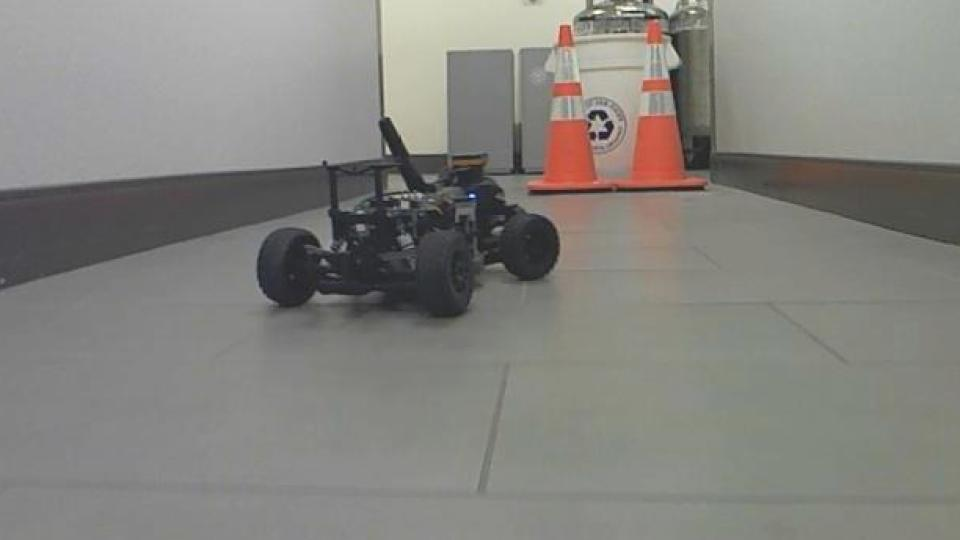car: (252, 115, 562, 320)
